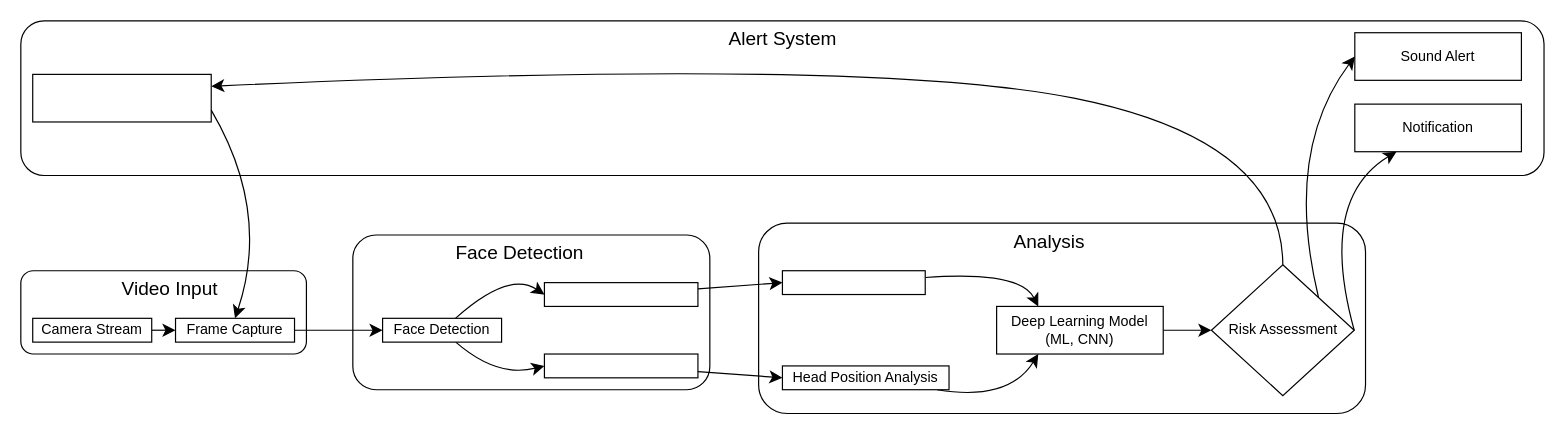
Some shapes in this 1565 by 434 pixel diagram are drawn without their labels. Here are the shapes that lost their labels. From the top down, the centre of each, then its label:
[121,97]: Continue Monitoring
[620,293]: Eye Region Detection
[853,282]: Eye State Analysis
[620,365]: Head Pose Estimation
